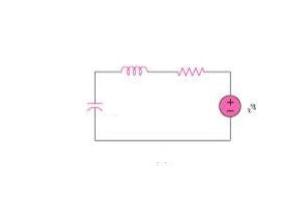resistor: (170, 58, 212, 85)
